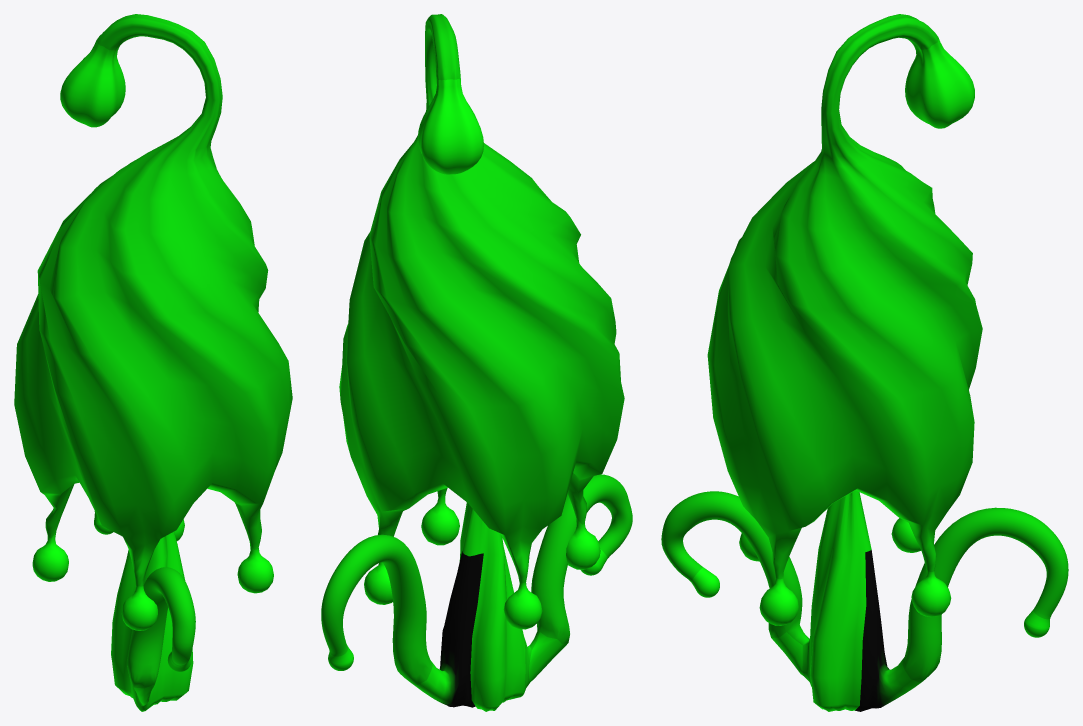
The model's file is plant_ame_2.fbx.
3 views of the same model, side by side, from view 1: azimuth 30°, elevation 25°; view 2: azimuth 150°, elevation 25°; view 3: azimuth 270°, elevation 25° (orthographic). The views are drawn at different scales.
Parts seen in each view (by area): view 1: polySurface40; view 2: polySurface40; view 3: polySurface40.
Part boxes in pixels (x1=…): polySurface40: x1=14, y1=14, x2=292, y2=711; polySurface40: x1=321, y1=14, x2=632, y2=711; polySurface40: x1=661, y1=14, x2=1068, y2=711.
Size of the model in its own units: 3.24 by 8.99 by 4.8.
